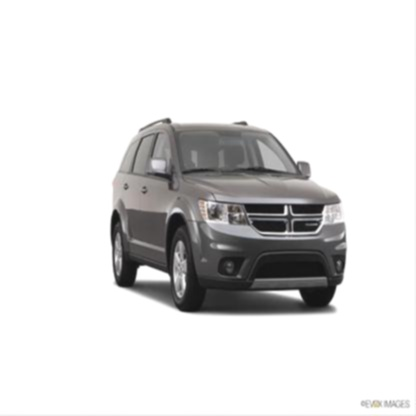Vehicle: (111, 120, 348, 317)
